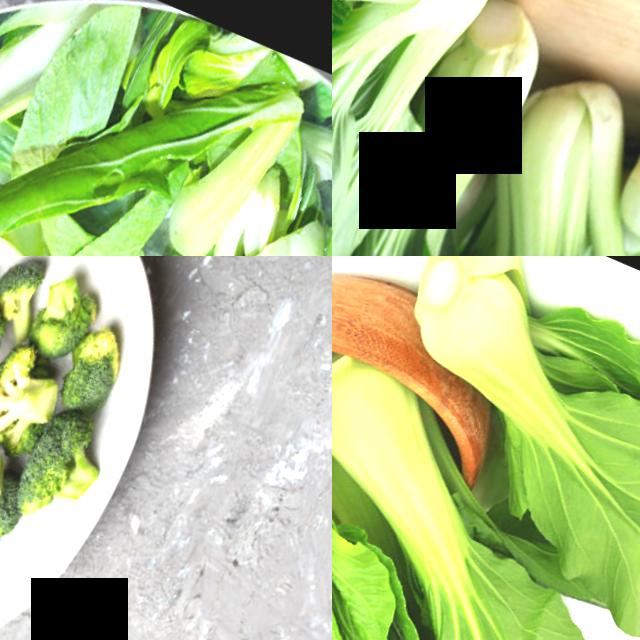bok choy: (451, 295, 640, 620), (360, 0, 570, 256), (458, 65, 640, 256), (332, 0, 543, 130), (332, 403, 412, 640)
broccoli: (13, 406, 125, 526), (53, 300, 156, 427), (21, 258, 109, 366), (0, 352, 67, 449), (0, 256, 51, 314), (0, 295, 21, 397)
